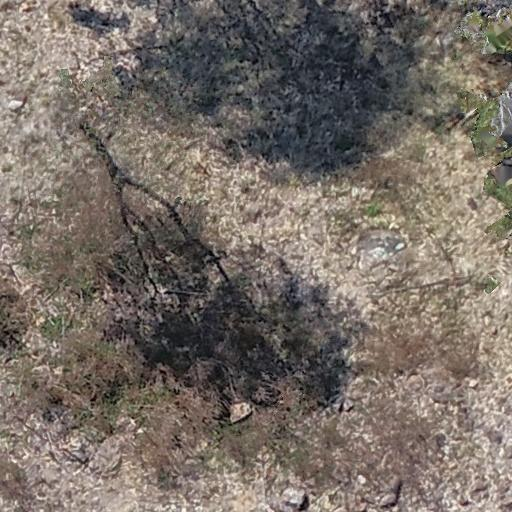stone: (281, 483, 309, 510), (380, 478, 405, 508), (228, 401, 250, 423), (469, 478, 487, 493), (10, 100, 26, 112), (468, 378, 479, 389), (491, 325, 499, 335)
